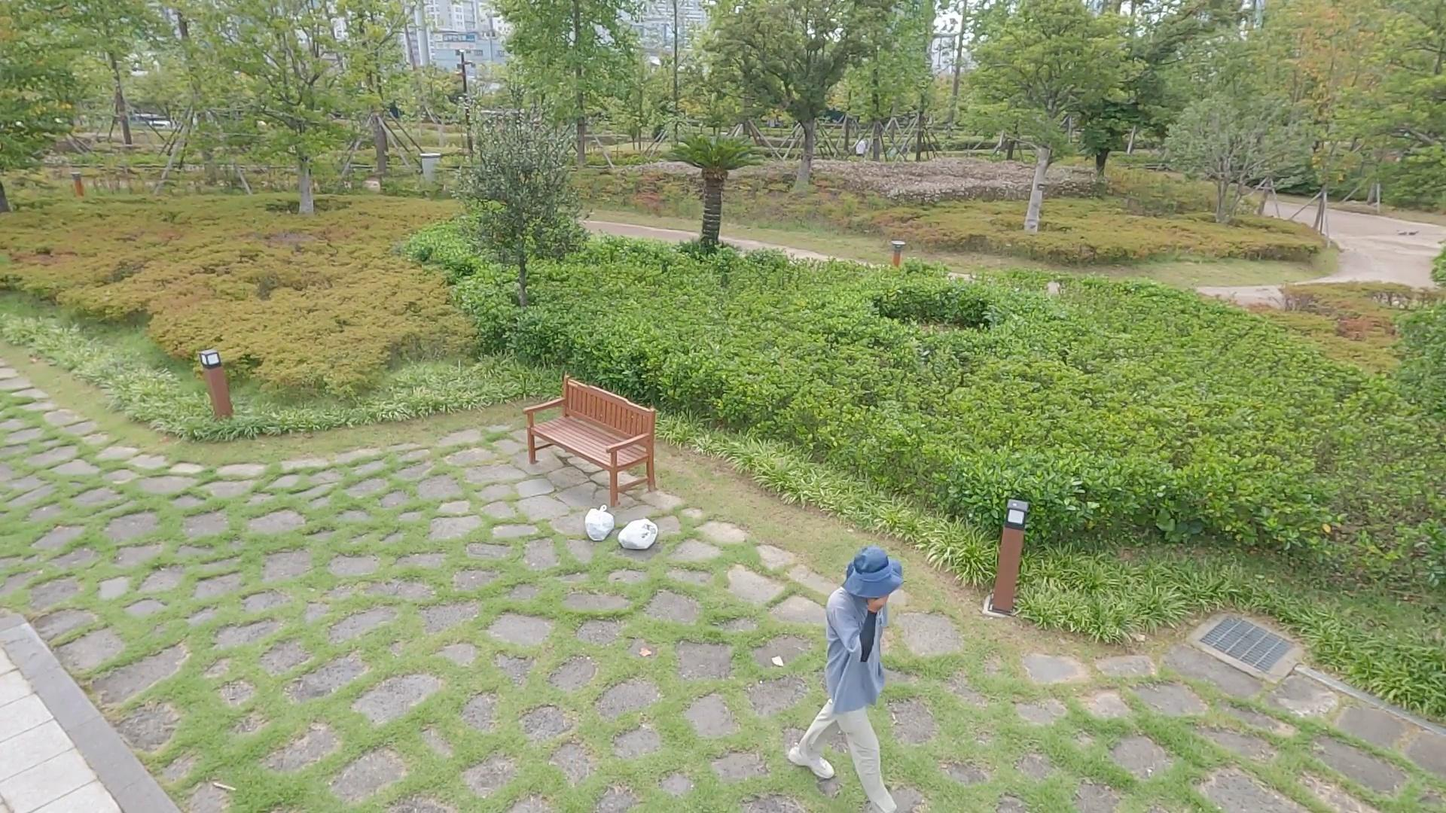person: (787, 546, 910, 812)
trash: (610, 515, 663, 554), (578, 502, 620, 543)
